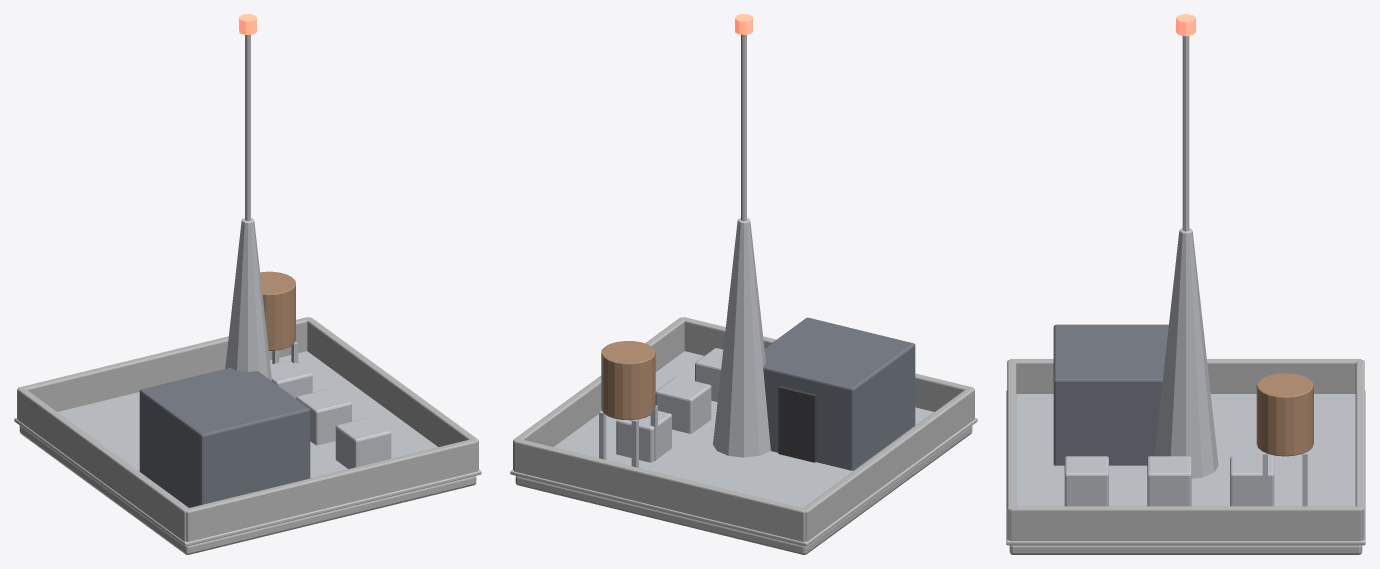
Rendered from roof_3x3_spire_office.glb.
3 views of the same model, side by side, from view 1: azimuth 30°, elevation 25°; view 2: azimuth 150°, elevation 25°; view 3: azimuth 270°, elevation 25° (orthographic). The views are drawn at different scales.
Visible parts, largest first — view 1: ext_parapet, ext_penthouse, int_slab_edge, ext_ac, ext_spire, int_slab, ext_tank, ext_mast; view 2: ext_parapet, ext_penthouse, int_slab_edge, ext_spire, ext_ac, int_slab, ext_tank, ext_penthouse_door, ext_mast, ext_tank_legs; view 3: ext_parapet, int_slab_edge, ext_penthouse, ext_spire, ext_ac, ext_tank, int_slab, ext_mast, ext_tank_legs.
Part boxes in pixels (left/top/right/bottom): ext_parapet: left=17, top=317, right=478, bottom=541; ext_penthouse: left=139, top=368, right=310, bottom=507; int_slab_edge: left=14, top=351, right=481, bottom=546; ext_ac: left=270, top=359, right=391, bottom=468; ext_spire: left=225, top=218, right=271, bottom=380; int_slab: left=19, top=426, right=476, bottom=554; ext_tank: left=260, top=271, right=295, bottom=350; ext_mast: left=245, top=34, right=250, bottom=220; ext_parapet: left=513, top=317, right=974, bottom=541; ext_penthouse: left=763, top=317, right=915, bottom=470; int_slab_edge: left=510, top=351, right=977, bottom=546; ext_spire: left=713, top=218, right=770, bottom=457; ext_ac: left=616, top=348, right=723, bottom=462; int_slab: left=515, top=426, right=972, bottom=554; ext_tank: left=601, top=341, right=655, bottom=420; ext_penthouse_door: left=778, top=386, right=816, bottom=462; ext_mast: left=741, top=34, right=746, bottom=220; ext_tank_legs: left=599, top=405, right=657, bottom=467; ext_parapet: left=1007, top=359, right=1364, bottom=541; int_slab_edge: left=1006, top=390, right=1365, bottom=545; ext_penthouse: left=1053, top=324, right=1168, bottom=465; ext_spire: left=1154, top=228, right=1218, bottom=478; ext_ac: left=1064, top=456, right=1274, bottom=506; ext_tank: left=1256, top=373, right=1313, bottom=456; int_slab: left=1009, top=545, right=1362, bottom=554; ext_mast: left=1182, top=36, right=1189, bottom=231; ext_tank_legs: left=1262, top=452, right=1307, bottom=506.
Bounding box in the file's own units: 3.26 × 4.64 × 3.26.
